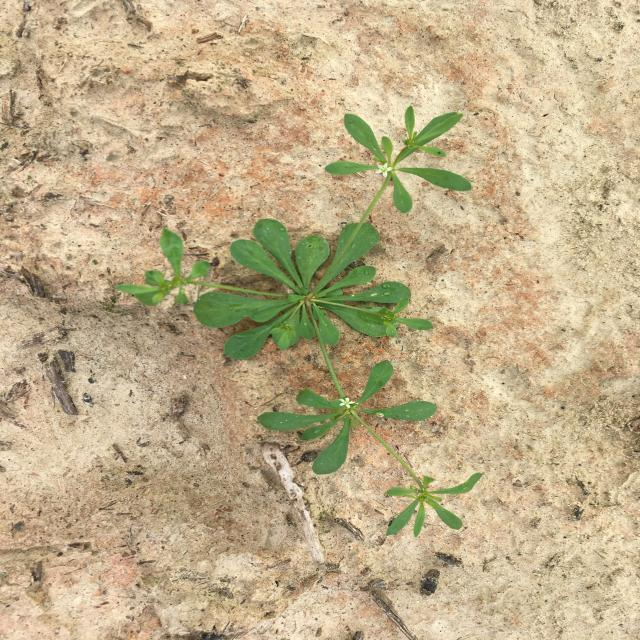Carpetweed: (116, 105, 484, 538)
